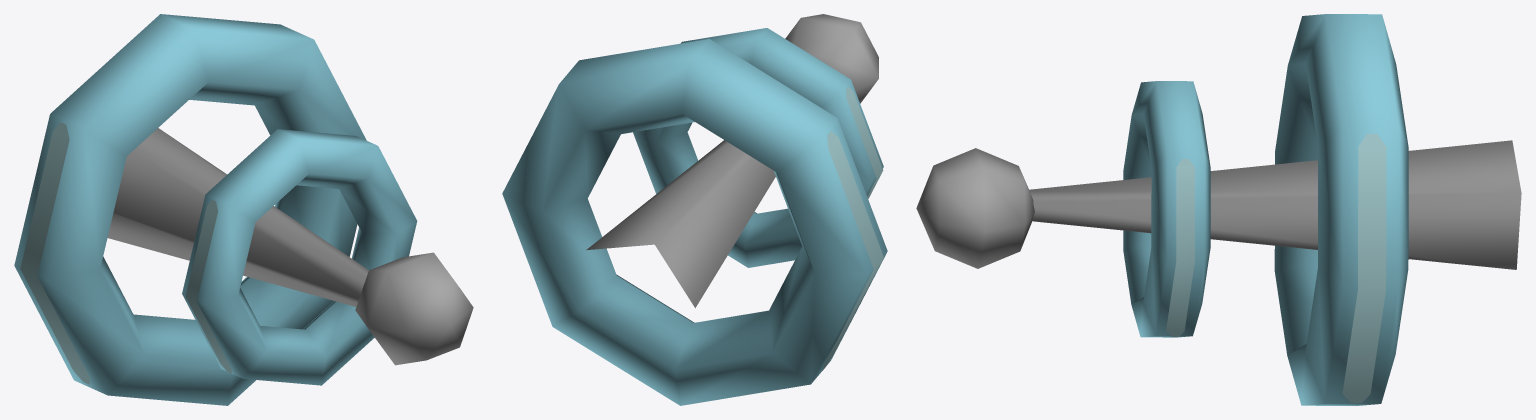
File: attachmentB.glb
3 views of the same model, side by side, from view 1: azimuth 30°, elevation 25°; view 2: azimuth 150°, elevation 25°; view 3: azimuth 270°, elevation 25° (orthographic). The views are drawn at different scales.
Visible parts, largest first — view 1: attachmentB; view 2: attachmentB; view 3: attachmentB.
Boxes of the visible parts, left/top/right/bottom form: attachmentB: left=14, top=14, right=473, bottom=405; attachmentB: left=502, top=14, right=887, bottom=405; attachmentB: left=916, top=14, right=1521, bottom=405.
Size of the model in its own units: 0.1645 by 0.1641 by 0.2341.
